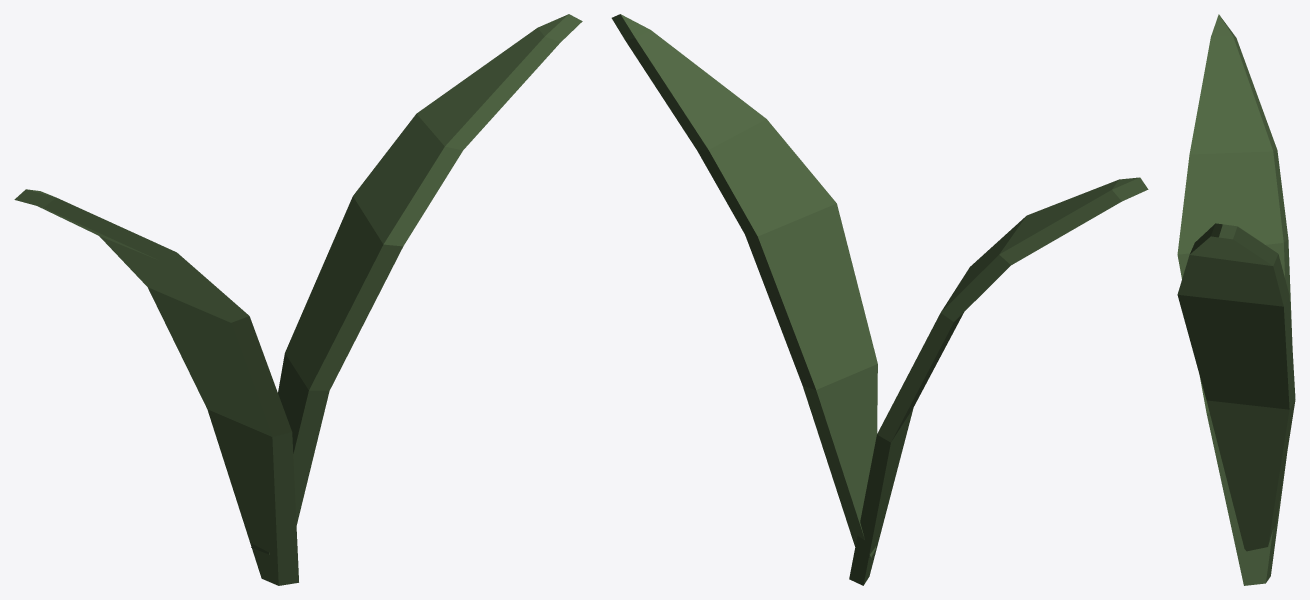
Rendered from flower_1.gltf.
The picture shows the model from 3 angles, left to right: view 1: azimuth 30°, elevation 25°; view 2: azimuth 150°, elevation 25°; view 3: azimuth 270°, elevation 25°; orthographic projection. The views are drawn at different scales.
Parts seen in each view (by area): view 1: flower_1; view 2: flower_1; view 3: flower_1.
Part boxes in pixels (x1,y1,x2,y2): flower_1: [14, 14, 582, 585]; flower_1: [611, 14, 1148, 585]; flower_1: [1177, 14, 1295, 585].
Bounding box in the file's own units: 0.1267 × 0.1099 × 0.0245.
1 material, 1 textured.
